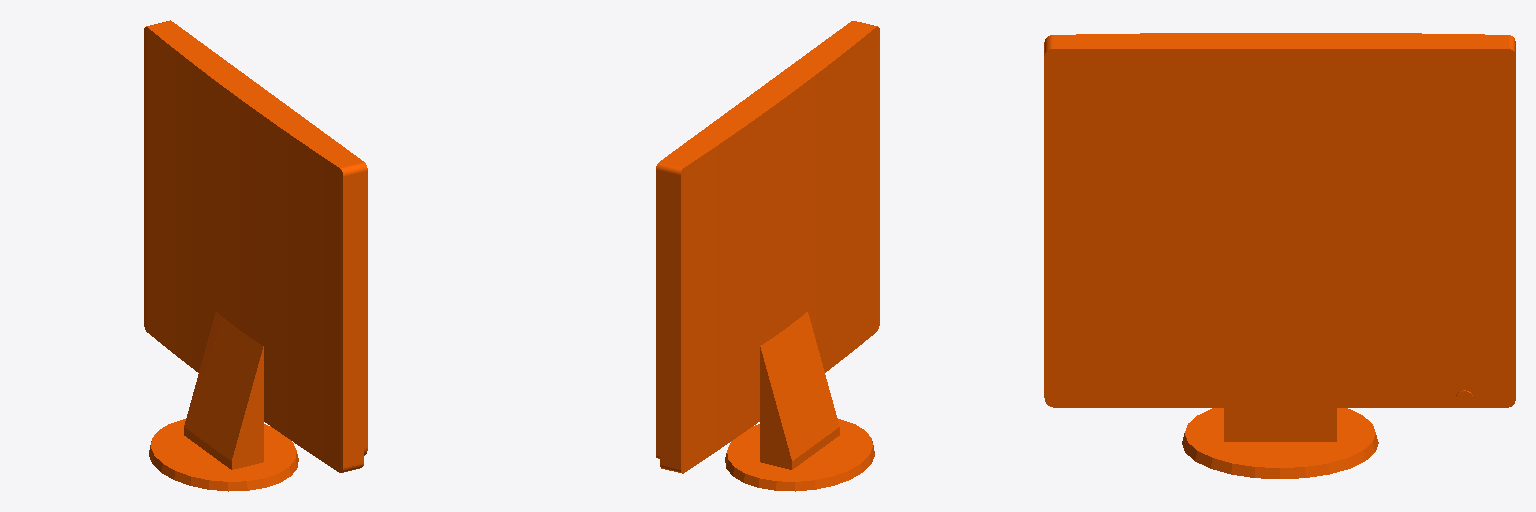
The robot description file, URDF, robot "TV_246f0b722dff7f16fb7ec8bd3f8b241d":
<?xml version="1.0" ?>
<robot name="TV_246f0b722dff7f16fb7ec8bd3f8b241d">
   <material name="obj_color">
      <color rgba="1.0 0.423529411765 0.0392156862745 1.0"/>
   </material>
   <link name="top">
      <inertial>
         <origin rpy="0.003215780241371317 0.003607505028775669 0.006416337685014214" xyz="-0.00453590109036872 -0.0007846984879711829 -0.005552003303029896"/>
         <mass value="1.260744265996607"/>
         <inertia ixx="0.006398077750422334" ixy="1.220921848421955e-07" ixz="-0.0002410562910310348" iyy="0.003607483244076178" iyz="2.92050681388103e-06" izz="0.003234061960662691"/>
      </inertial>
      <visual>
         <origin rpy="0 0 0" xyz="0 0 0"/>
         <geometry>
            <mesh filename="top_watertight_tiny.stl" scale="1 1 1"/>
         </geometry>
         <material name="obj_color"/>
      </visual>
      <collision>
         <origin rpy="0 0 0" xyz="0 0 0"/>
         <geometry>
            <mesh filename="top_watertight_tiny.obj" scale="1 1 1"/>
         </geometry>
      </collision>
   </link>
   <link name="bottom">
      <inertial>
         <origin rpy="1.633333333199431e-08 1.633333333199431e-08 1.633333333362855e-08" xyz="0.3464080000000008 0.3464080000000008 0.3464080000000008"/>
         <mass value="0.0009800000000000017"/>
         <inertia ixx="1.633333333253906e-08" ixy="5.447480642029219e-19" ixz="5.447480642029219e-19" iyy="1.633333333253906e-08" iyz="5.447480642029219e-19" izz="1.633333333253906e-08"/>
      </inertial>
      <visual>
         <origin rpy="0 0 0" xyz="0 0 0"/>
         <geometry>
            <mesh filename="bottom_watertight_tiny.stl" scale="1 1 1"/>
         </geometry>
         <material name="obj_color"/>
      </visual>
   </link>
   <joint name="rotation" type="revolute">
      <origin xyz="0 0 0"/>
      <axis xyz="0 0 -1"/>
      <parent link="bottom"/>
      <child link="top"/>
      <dynamics damping="1.0" friction="1.0"/>
      <limit effort="0.1" velocity="0.1" lower="0" upper="0.001"/>
   </joint>
</robot>

--- Facts derived from the render (not from the file) ---
3 views of the same robot in one strip: view 1: azimuth 30°, elevation 25°; view 2: azimuth 150°, elevation 25°; view 3: azimuth 270°, elevation 25° (orthographic).
Robot: TV_246f0b722dff7f16fb7ec8bd3f8b241d — 2 links, 1 joints (1 revolute); root link bottom; default pose: every joint at zero.
Visible links, largest first — view 1: top; view 2: top; view 3: top.
Boxes of the visible links, bbox=[...] form: top: bbox=[144, 20, 367, 491]; top: bbox=[656, 21, 879, 491]; top: bbox=[1044, 33, 1515, 478].
Bounding box of the posed robot: 0.0719 × 0.1978 × 0.1945 m (x, y, z).
Meshes: 2 distinct files referenced, 1 mesh visuals loaded (1 binary STL); not drawn: 1 (reference not matched to a file when rendering).
